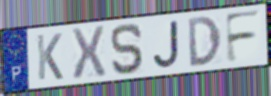D: (186, 14, 223, 69)
F: (223, 9, 263, 66)
J: (152, 19, 182, 70)
K: (35, 32, 65, 82)
S: (109, 22, 146, 76)
X: (69, 24, 108, 83)
